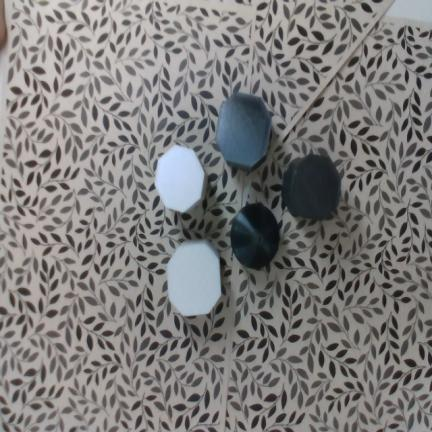Esfera: (230, 203, 279, 269)
Prisma_hexagonal: (215, 93, 271, 172), (167, 239, 221, 316), (281, 154, 340, 220), (154, 145, 208, 214)
